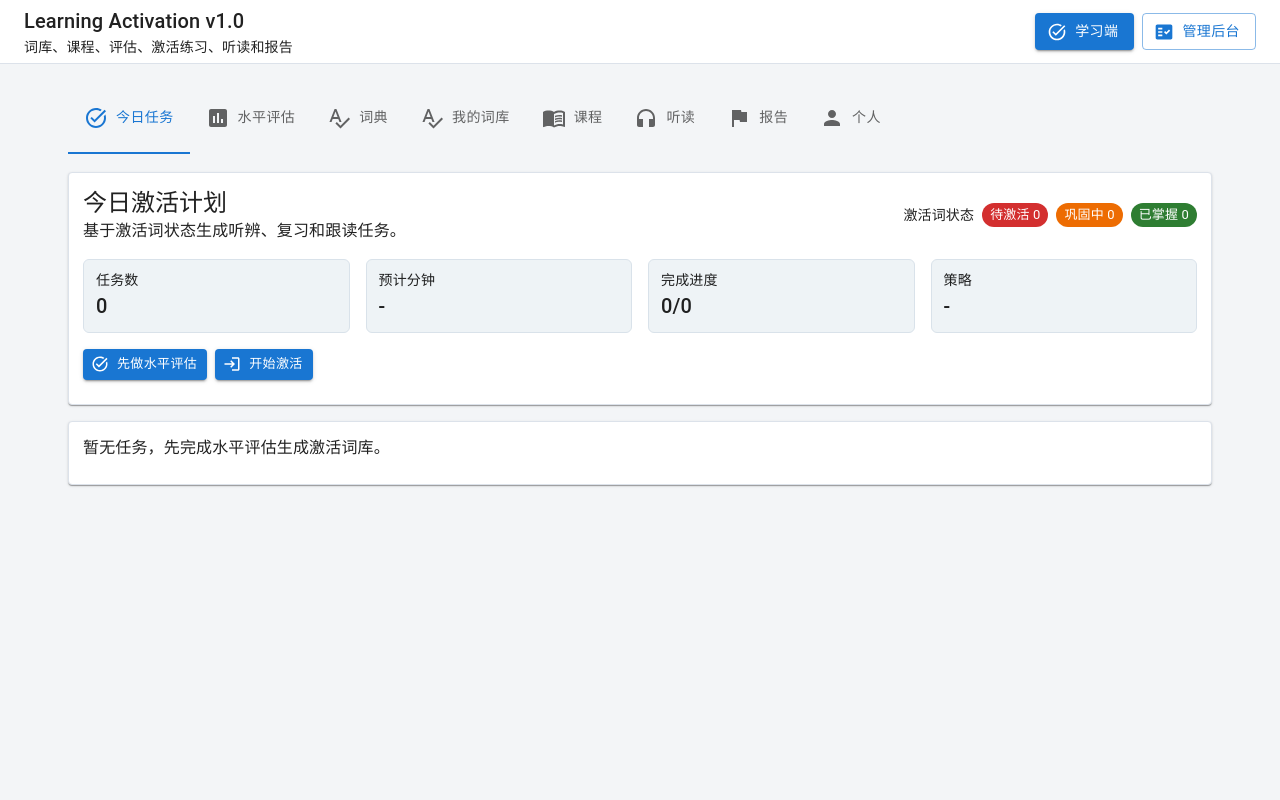
Test: App v1.0 shell › queries word meta from the learning dictionary
The width and height of the screenshot is (1280, 800).
Click the tab "词典".
click(358, 118)  # box [311,82,404,154]
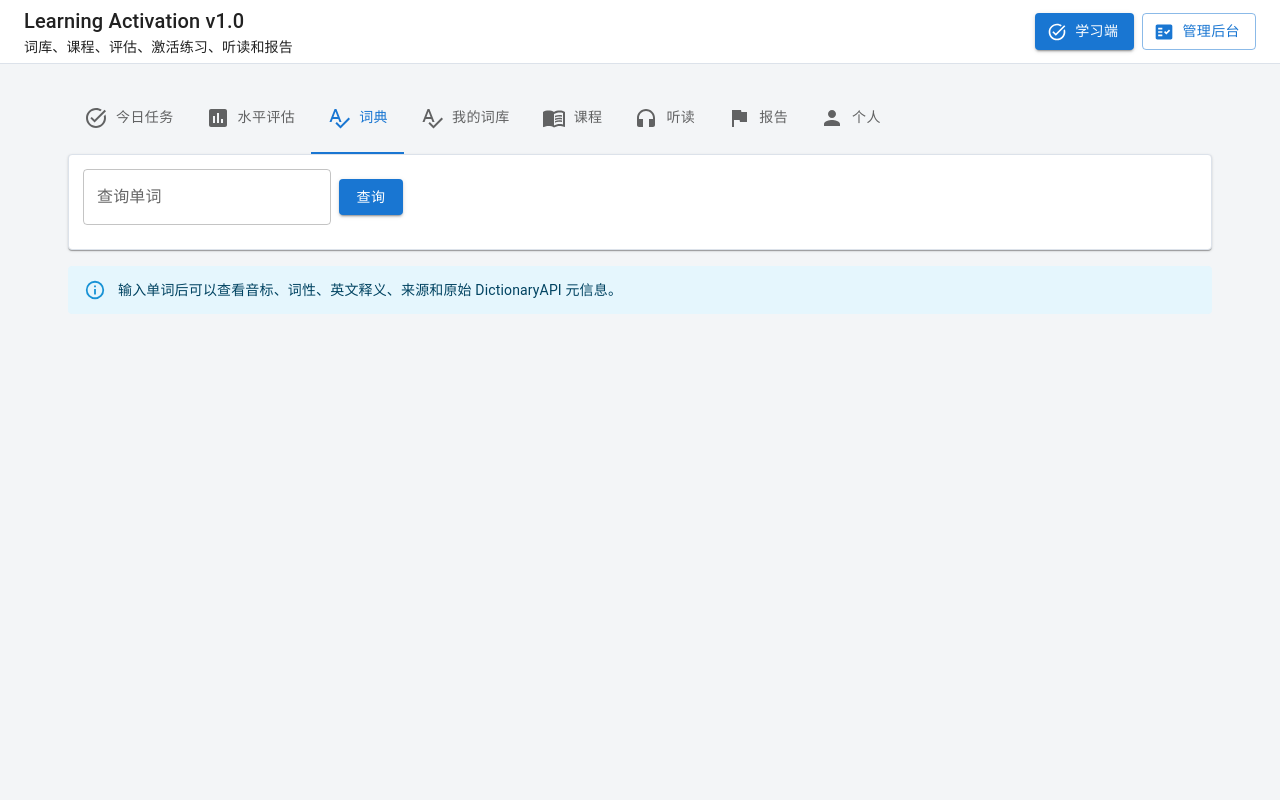
Type "walk" into the field labelled "查询单词".
click(207, 197); type("walk")  # box [83,169,331,225]
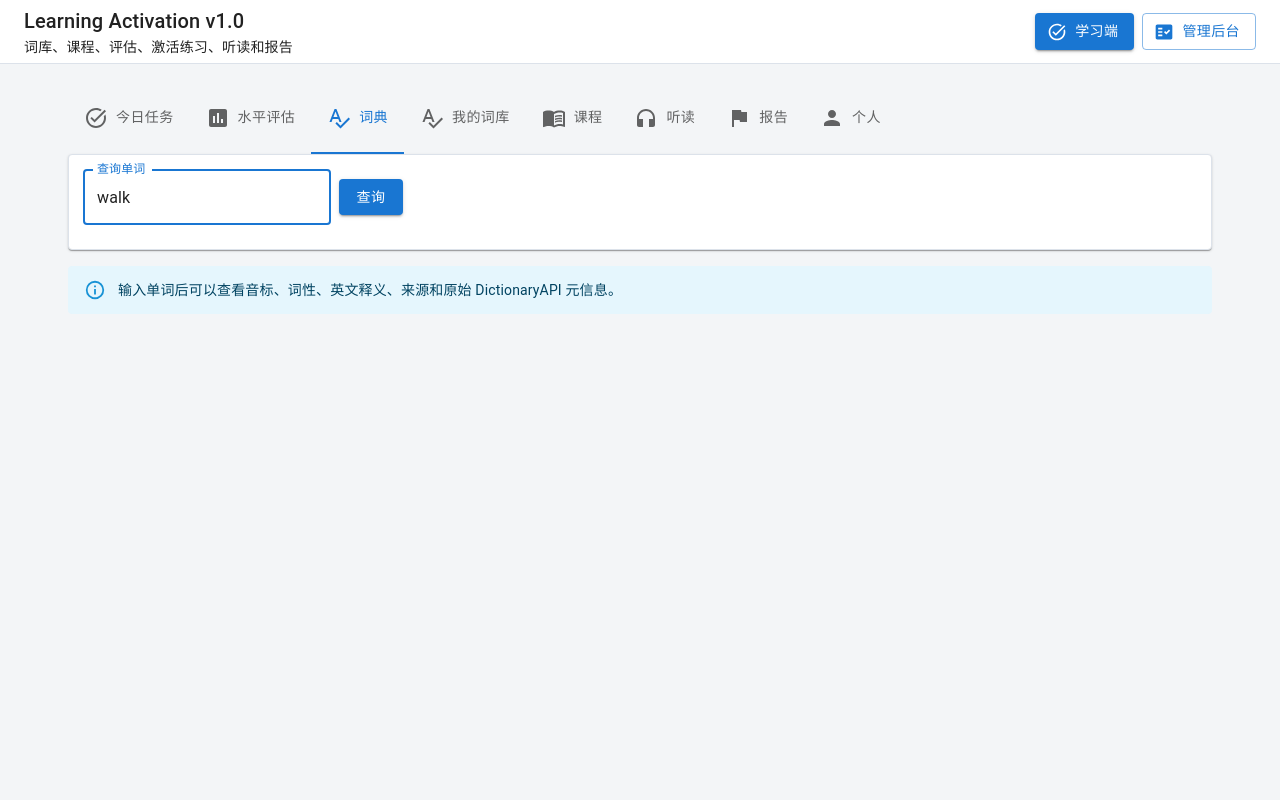
Click the button "查询".
click(371, 197)  # box [339,179,403,215]
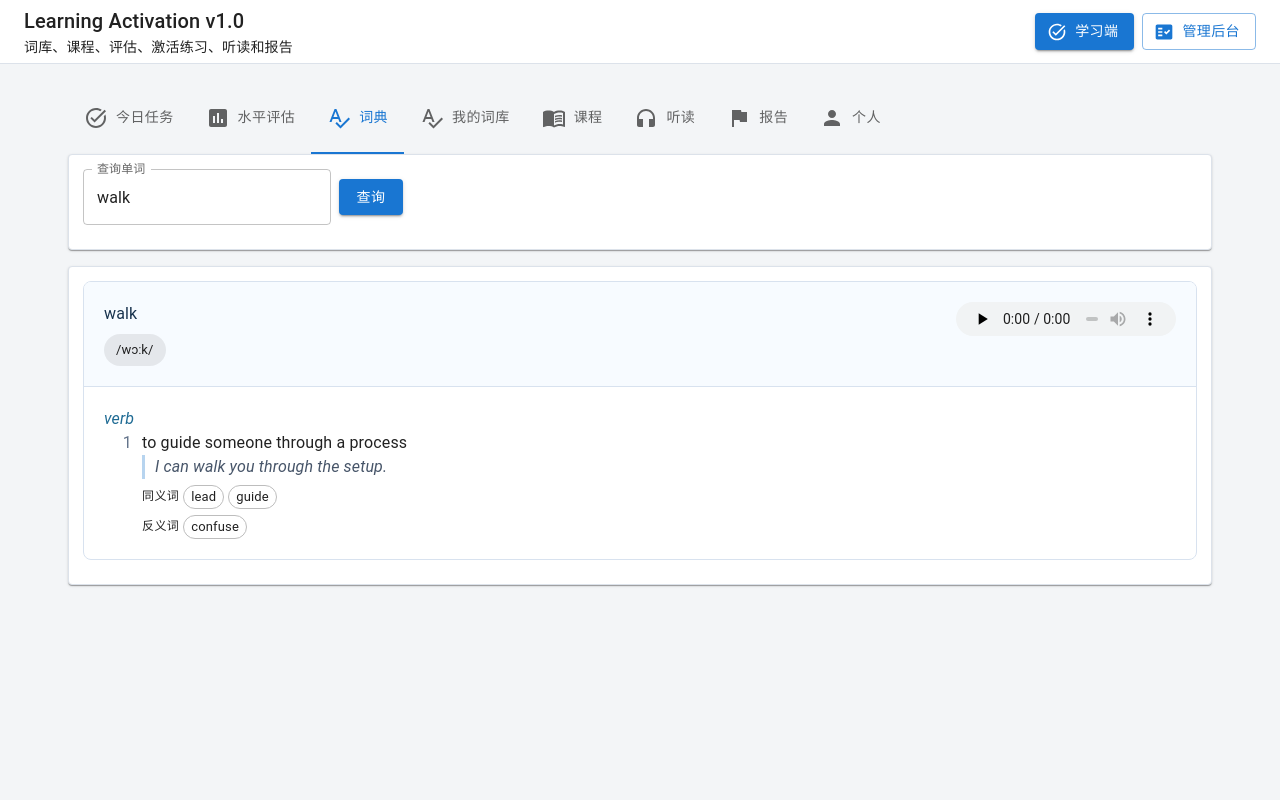
Result: the text "to guide someone through a process" is shown at [142,433,407,452]
Result: the text "I can walk you through the setup." is shown at [142,455,1176,479]
Result: the text "guide" is shown at [236,489,269,504]
